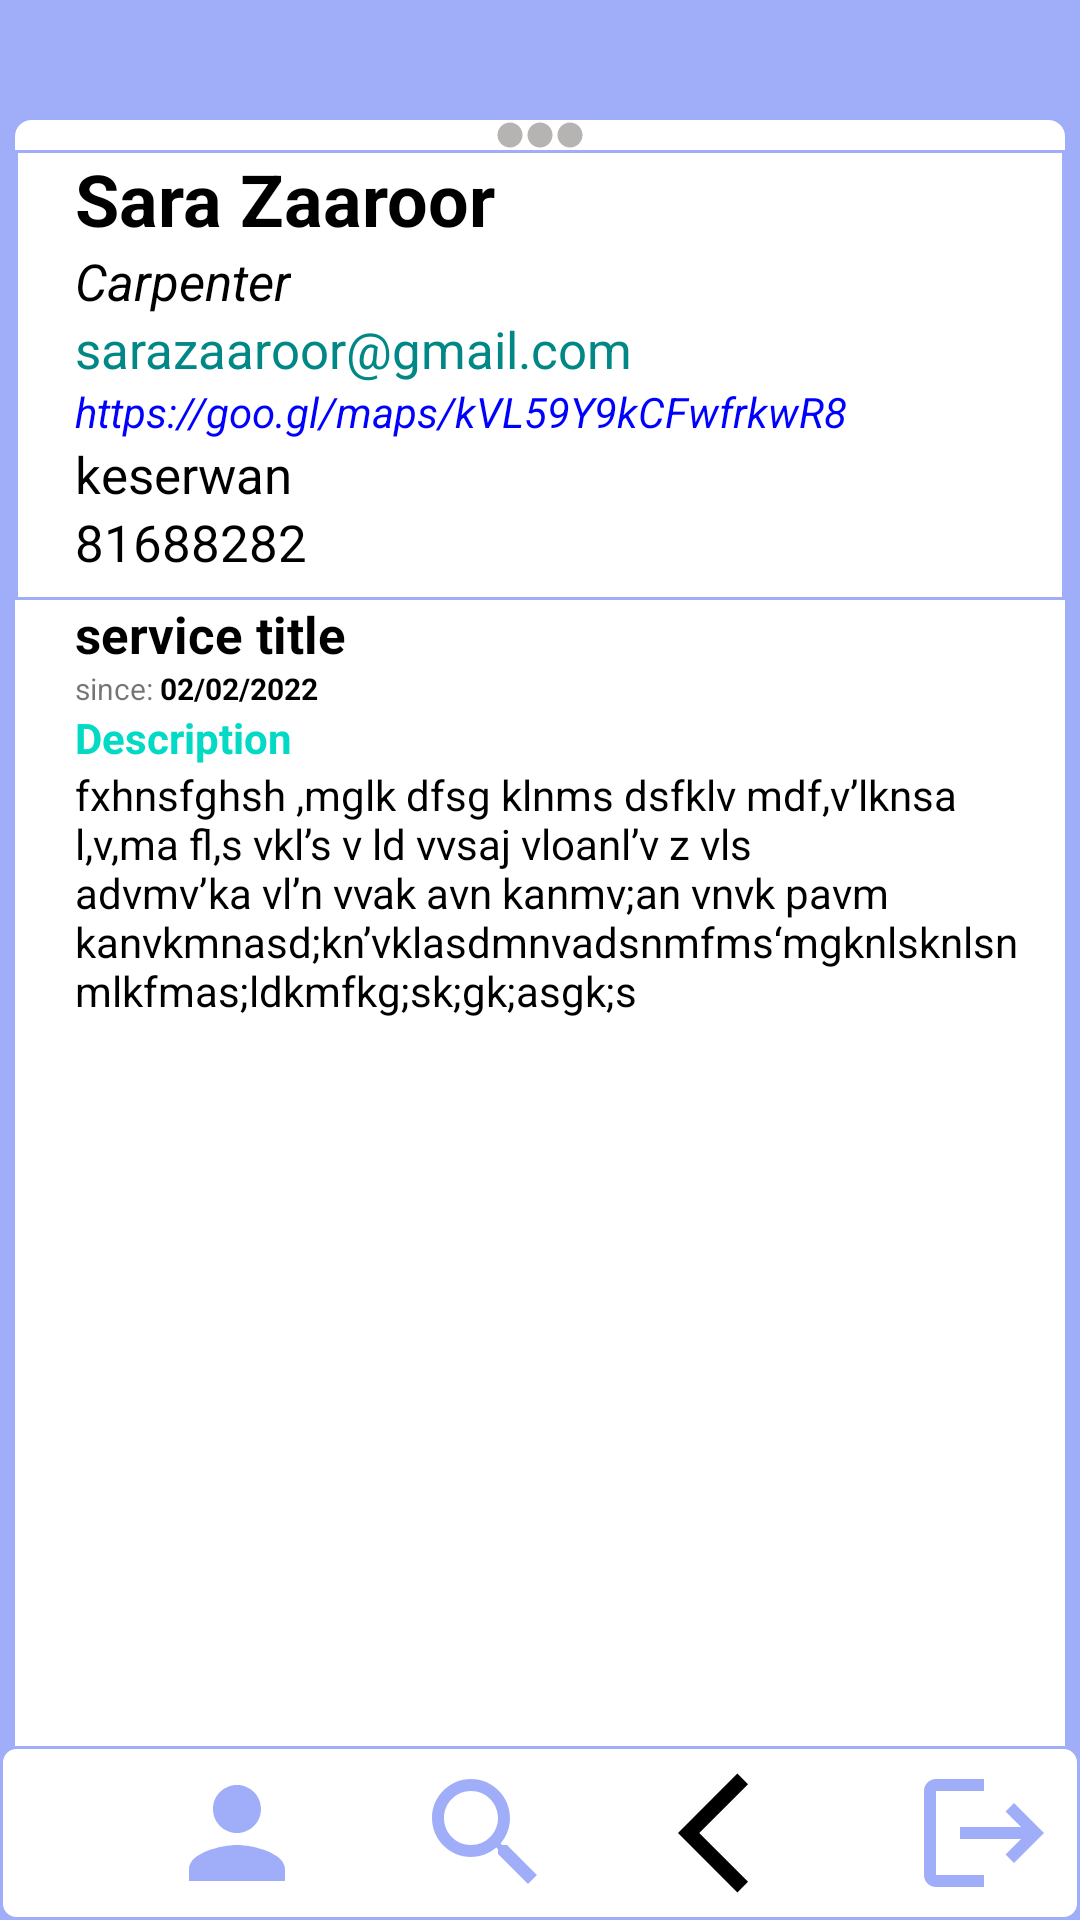

Locate icon controls on the screen. Image size 1080px×1920px, boxes as {"x1": x1, "y1": y1, "x2": x2, "y2": y2}.
back arrow: {"x1": 678, "y1": 1773, "x2": 748, "y2": 1893}
dot: {"x1": 497, "y1": 122, "x2": 523, "y2": 148}, {"x1": 527, "y1": 122, "x2": 553, "y2": 148}, {"x1": 557, "y1": 122, "x2": 583, "y2": 148}
profile: {"x1": 189, "y1": 1785, "x2": 285, "y2": 1881}
search: {"x1": 432, "y1": 1779, "x2": 537, "y2": 1884}
